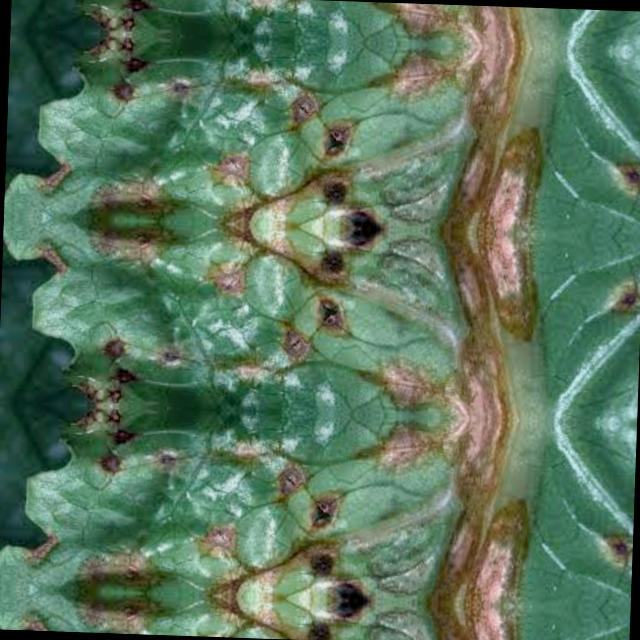Lettuce - Anthracnose: (0, 215, 640, 423), (3, 29, 640, 237), (0, 401, 634, 609), (0, 587, 628, 640), (10, 0, 640, 51)
